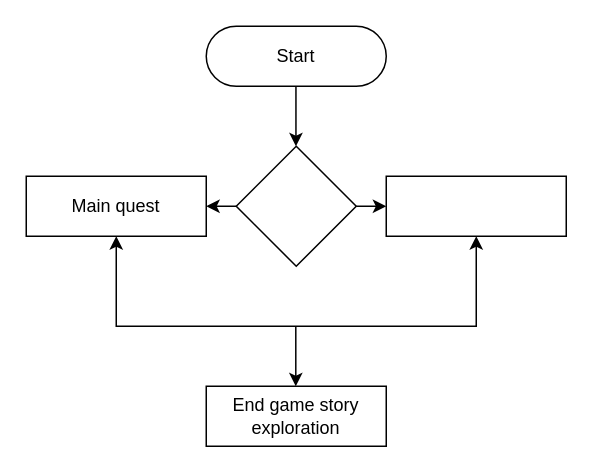
Some shapes in this 593 by 473 pixel diagram are drawn without their labels. Each missing label, with the box of its shape:
Main/Side quest: (235, 145, 356, 266)
Side quest: (385, 175, 566, 236)
